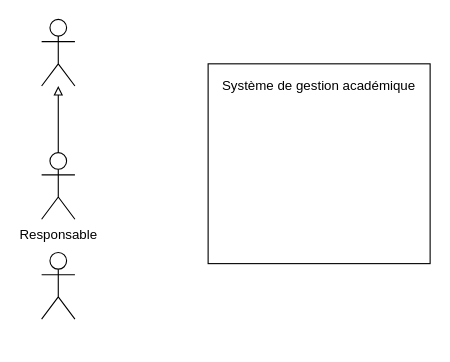
The diagram is 450 pixels wide and 362 high, and some of its shapes have lost their labels. Here are the shapes that lost their labels. From the top down, the centre of each, then its label:
At point 58,52: "Enseignant".
At point 58,285: "Etudiant".
